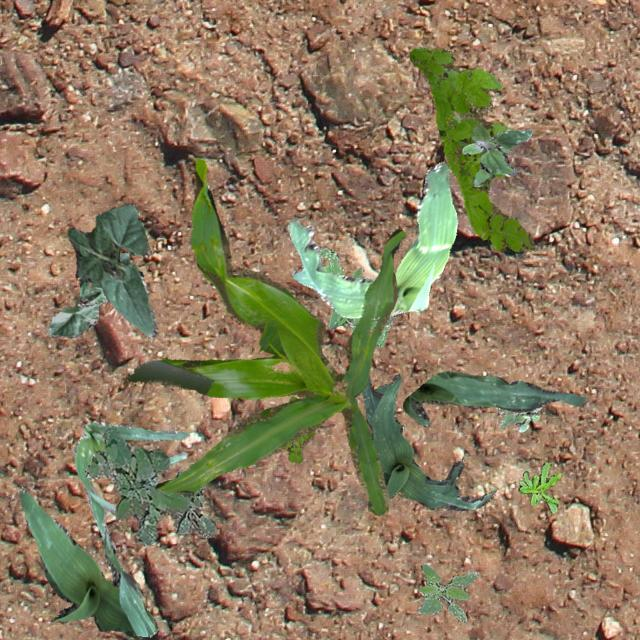crop: (124, 156, 403, 514), (286, 160, 456, 318), (18, 489, 158, 636), (361, 372, 492, 510), (72, 422, 188, 548), (66, 202, 156, 336), (402, 370, 584, 426), (48, 252, 128, 336)
weed: (408, 46, 532, 252), (84, 424, 215, 546), (318, 246, 394, 346), (461, 124, 531, 186), (417, 562, 478, 620), (279, 396, 313, 462), (518, 461, 560, 512), (496, 406, 540, 430)
